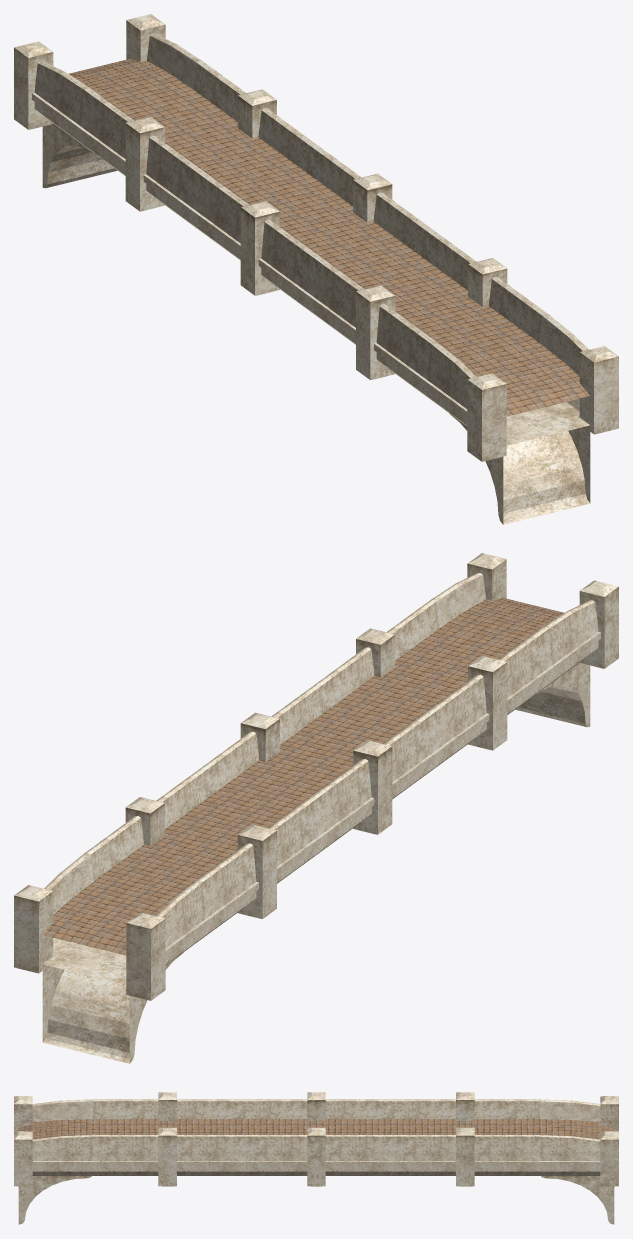
The model's file is thm_tato_imprv_bridge_sml_s03_l0.fbx.
The picture shows the model from 3 angles, top to bottom: view 1: azimuth 30°, elevation 25°; view 2: azimuth 150°, elevation 25°; view 3: azimuth 270°, elevation 25°; orthographic projection. The views are drawn at different scales.
Visible parts, largest first — view 1: mesh_node; view 2: mesh_node; view 3: mesh_node.
Part boxes in pixels (<box>): mesh_node: <box>14,14,618,524</box>; mesh_node: <box>14,553,618,1063</box>; mesh_node: <box>14,1092,618,1224</box>.
Size of the model in its own units: 5.5 by 5.86 by 32.5.
